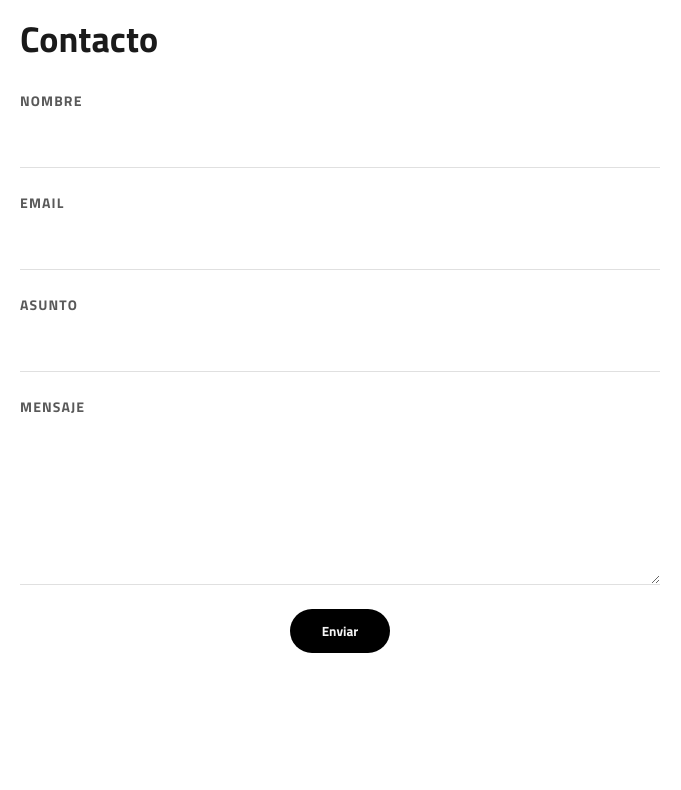
Test case: ContactForm › valida el formato del email
Type "no-es-email" into the field labelled "Email" at (340, 246), box [20,221,660,270]
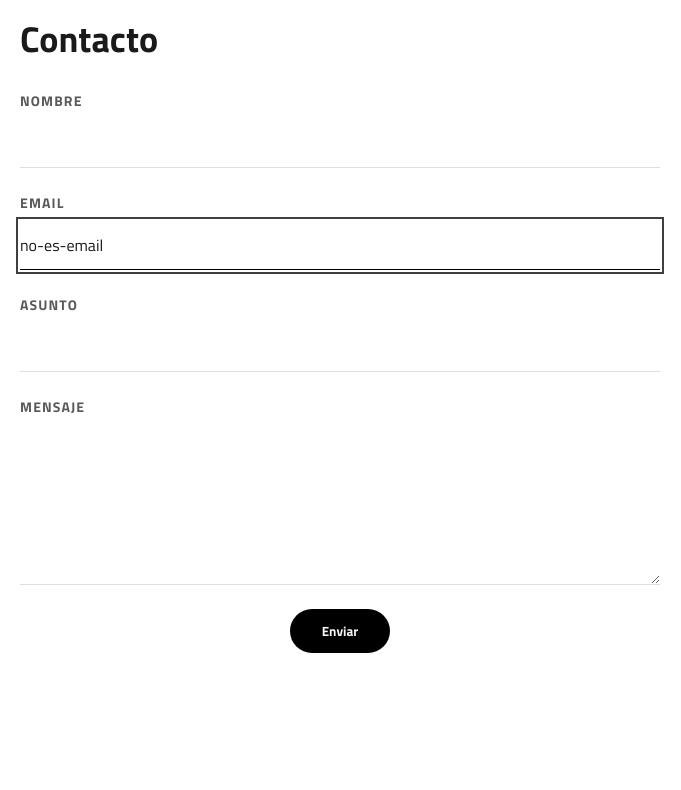
Click the button "Enviar" at (340, 631), box [290,609,390,653]
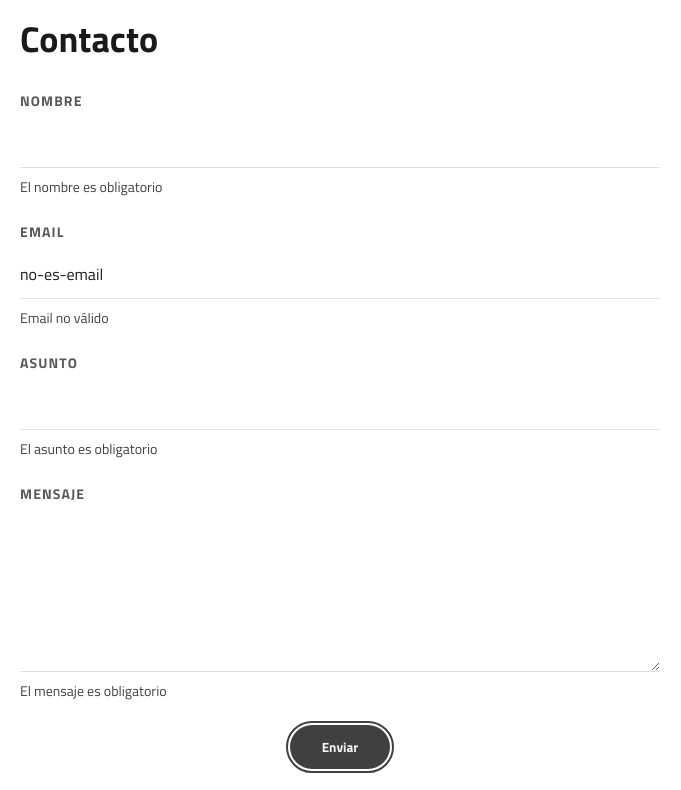
Expected: the text "Email no válido" is shown, [20,307,109,328]
